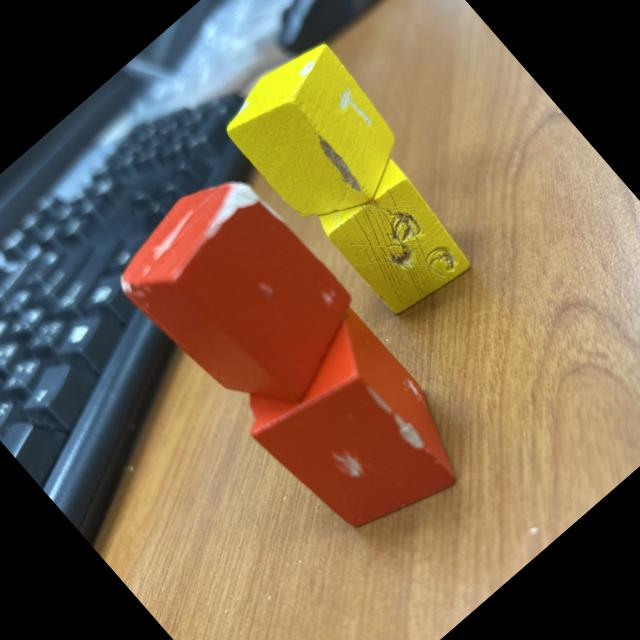broken: (102, 154, 380, 440), (220, 294, 483, 562), (213, 30, 424, 244), (310, 151, 480, 324)
